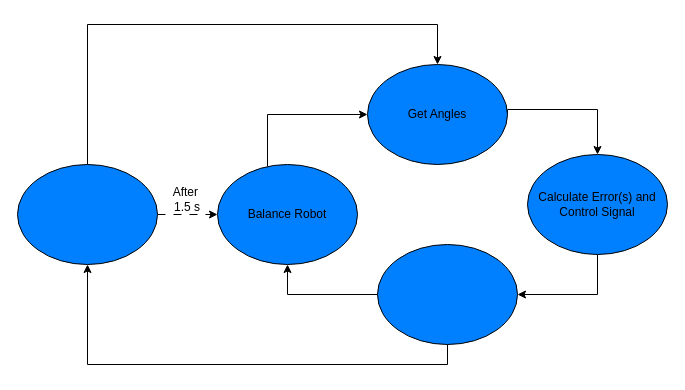
This 685x390 diagram has some shape labels left out. The box of each missing label's shape, as (x1, y1, x2, y2) in pixels:
Move Vehicle: (16, 164, 158, 264)
Normalize PWM: (376, 244, 518, 344)
